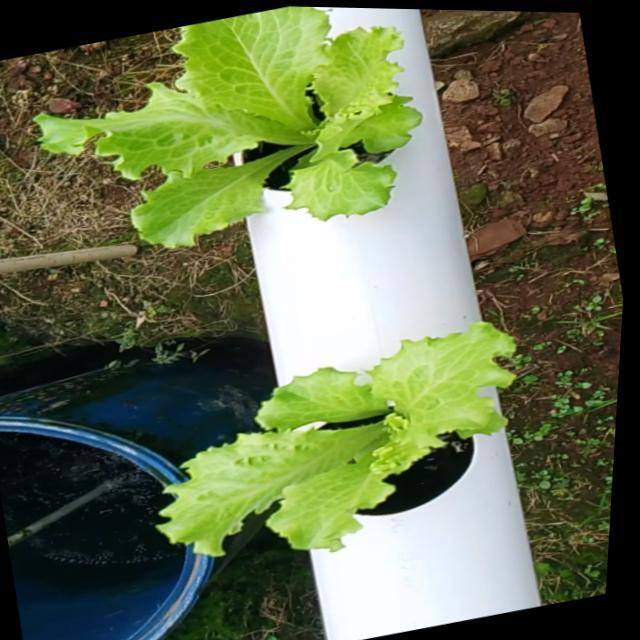Baby: (30, 9, 415, 266), (142, 346, 507, 582)
